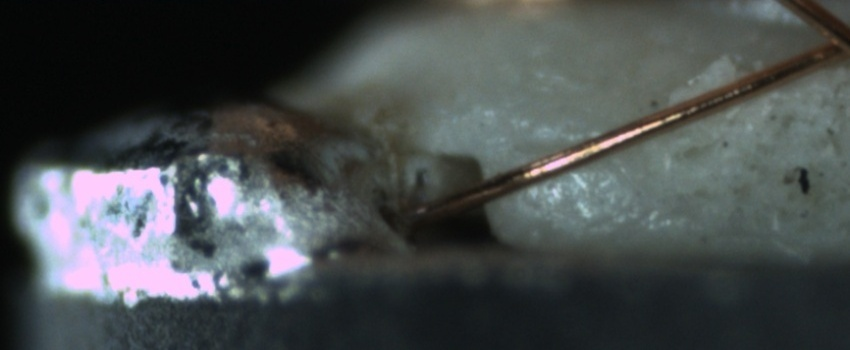CL: (796, 9, 849, 67)
DL: (517, 125, 609, 172)
